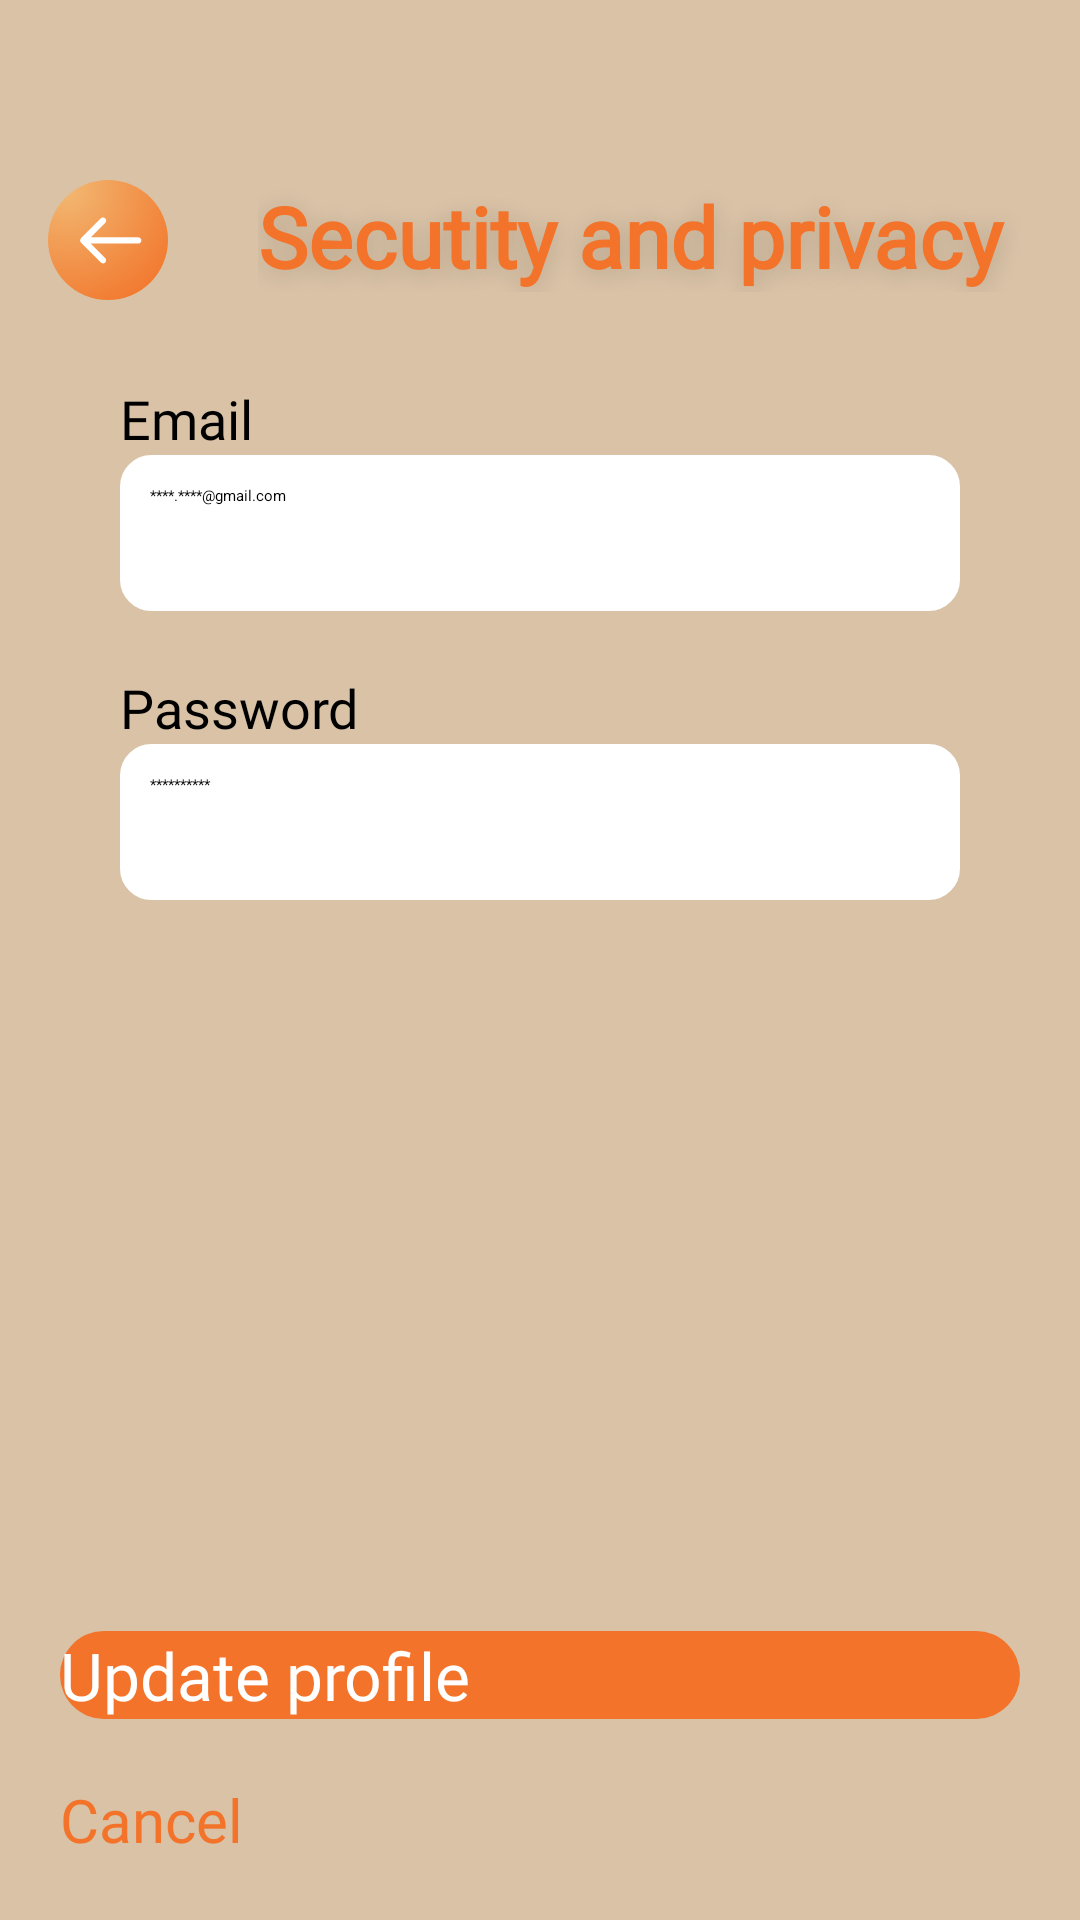

Icons on this 1080px x 1920px Android screen, each with its box as (x1, y1, x2, y2):
back: (48, 180, 168, 300)
